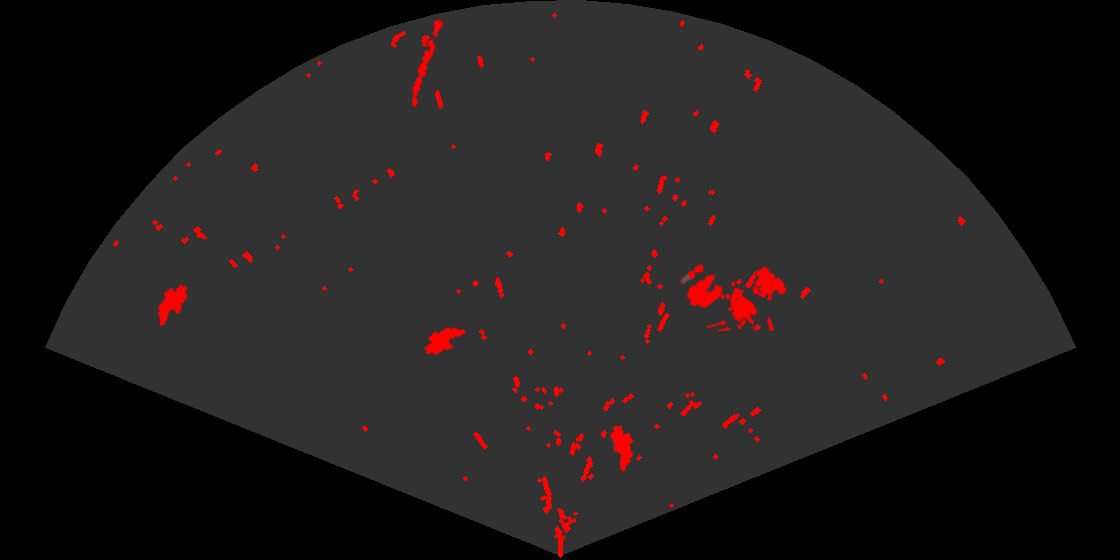AUV: (156, 283, 189, 327), (422, 325, 467, 357), (609, 424, 634, 474)
ball: (678, 263, 724, 310)
cage: (707, 265, 789, 331)
chain: (410, 17, 445, 109)
